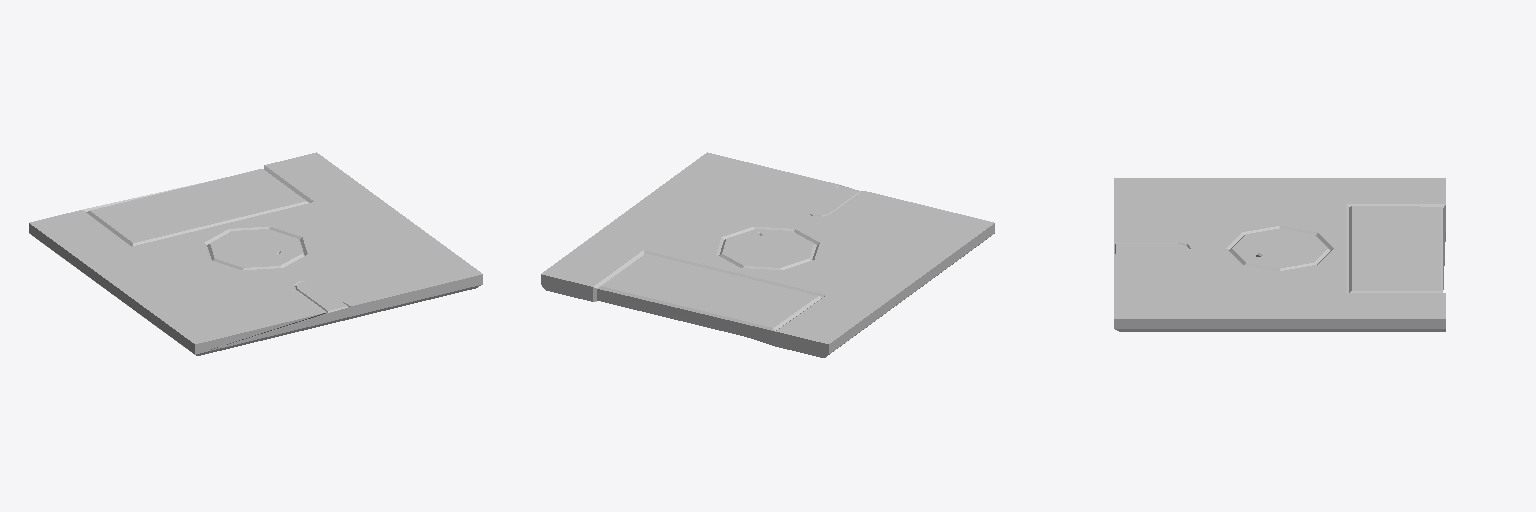
The model's file is FloppyDisk_Blue.obj.
3 renders of one model, left to right at view 1: azimuth 30°, elevation 25°; view 2: azimuth 150°, elevation 25°; view 3: azimuth 270°, elevation 25°, orthographic.
Visible parts, largest first — view 1: Cube; view 2: Cube; view 3: Cube.
Part boxes in pixels (x1,y1,x2,y2): Cube: (29, 152, 482, 355); Cube: (541, 152, 994, 357); Cube: (1114, 178, 1445, 331).
Size of the model in its own units: 2 by 0.1 by 2.